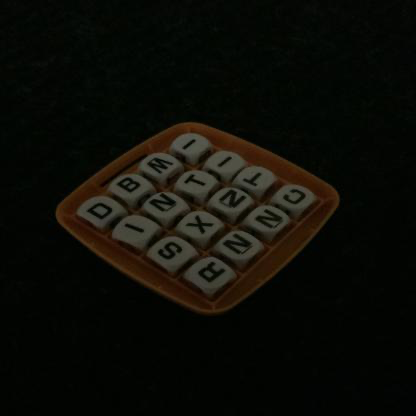b: (114, 175, 144, 195)
c: (282, 185, 311, 207)
d: (85, 200, 118, 222)
i: (118, 217, 153, 241), (177, 134, 204, 155), (214, 154, 239, 172)
n: (220, 231, 258, 259), (253, 207, 289, 234), (148, 192, 180, 216), (216, 188, 249, 211)
r: (197, 260, 232, 286)
s: (156, 241, 190, 268)
t: (183, 171, 210, 191), (241, 170, 269, 189)
w: (144, 155, 176, 177)
x: (184, 213, 218, 239)
